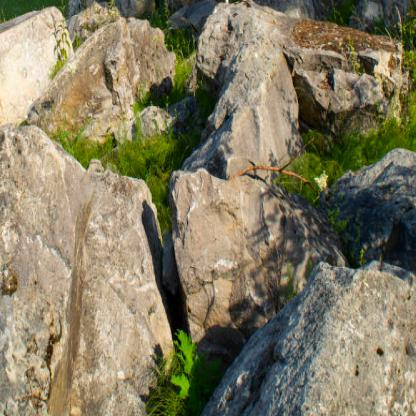Sedimentary_Limestone: (0, 128, 158, 415), (236, 226, 416, 415), (159, 153, 313, 337), (172, 34, 307, 195), (26, 7, 148, 171), (325, 132, 415, 270)
